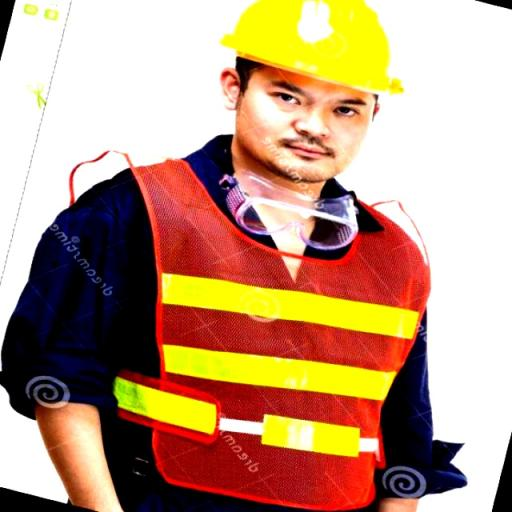Person: (15, 2, 479, 504)
goggles: (215, 160, 370, 254)
helmet: (225, 2, 408, 93)
vest: (128, 157, 434, 511)
